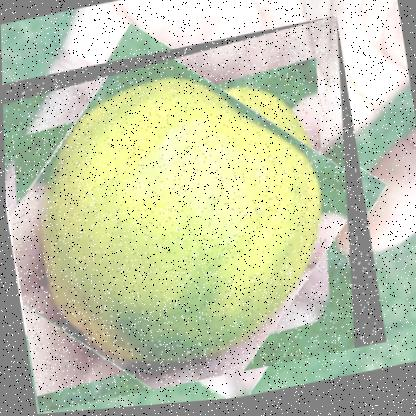orange: (1, 18, 385, 415)
